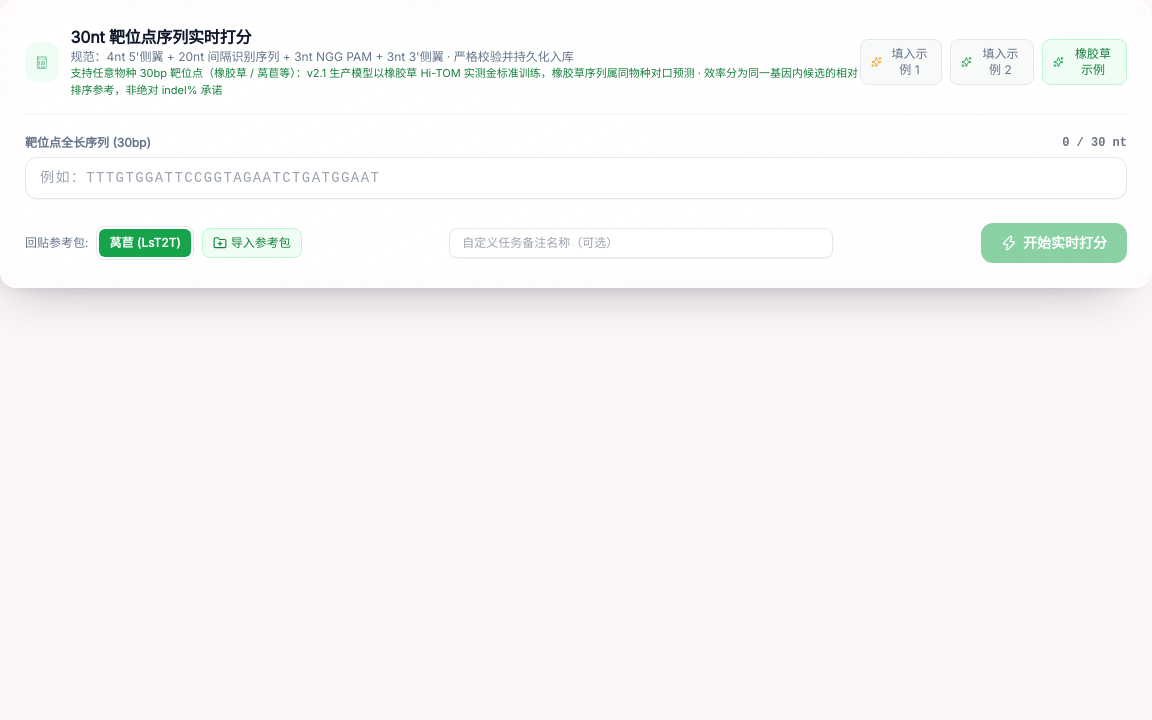
Test: SingleScoringCard › shows placeholder dashes when expression_fitness is missing (legacy response)
Click the button "填入示例 1".
click(901, 62)  # box [860,38,942,84]
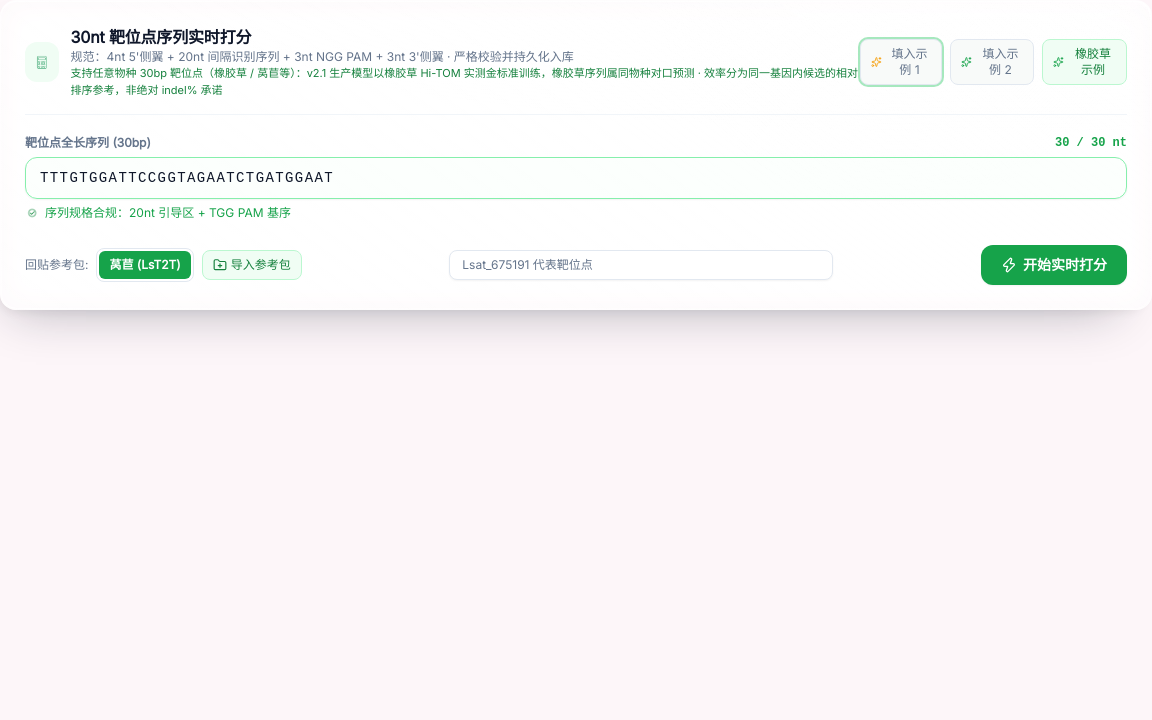
Click the button "开始实时打分".
click(1054, 265)  # box [981,245,1127,285]
(page scrolled)
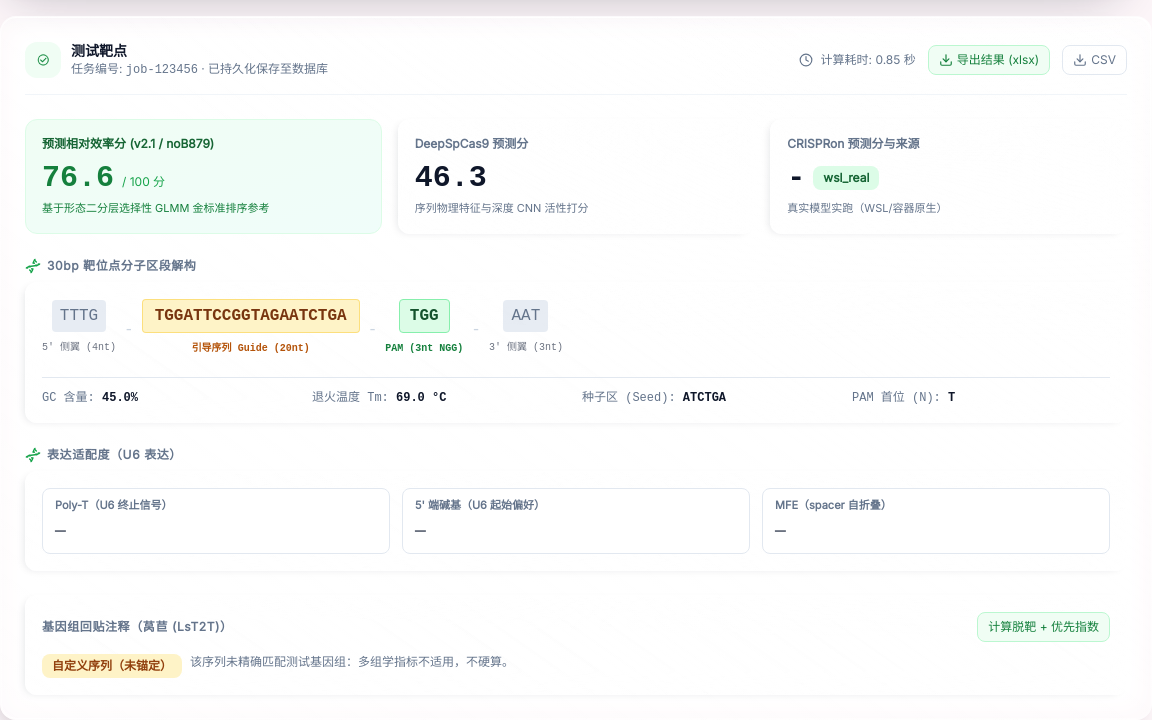
expect the text "表达适配度（U6 表达）" is shown: met, box [47,446,182,462]
